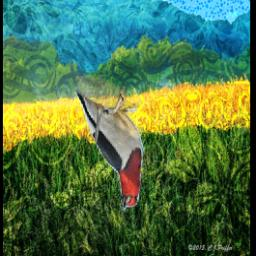Woodpecker: (71, 77, 146, 216)
